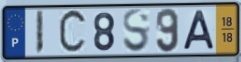8: (92, 11, 117, 52)
9: (155, 7, 181, 54)
A: (182, 9, 217, 52)
C: (58, 8, 89, 57)
I: (34, 9, 45, 56)
S: (121, 8, 151, 55)
